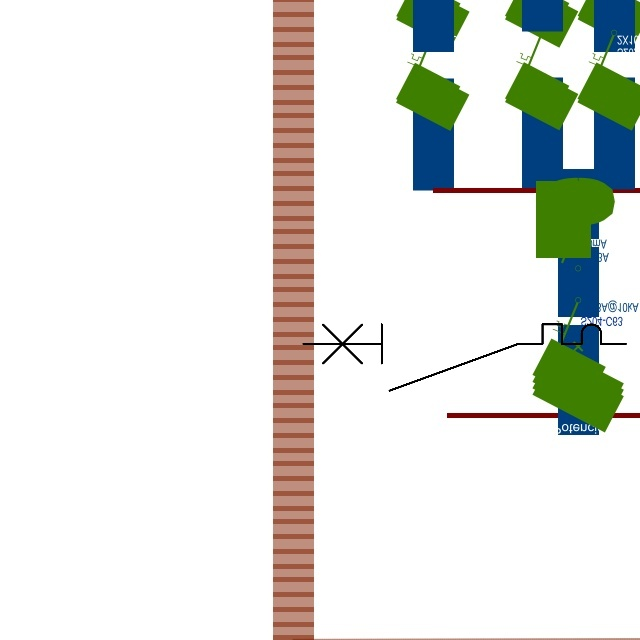interruptor_termomagnetico: (295, 316, 634, 399)
